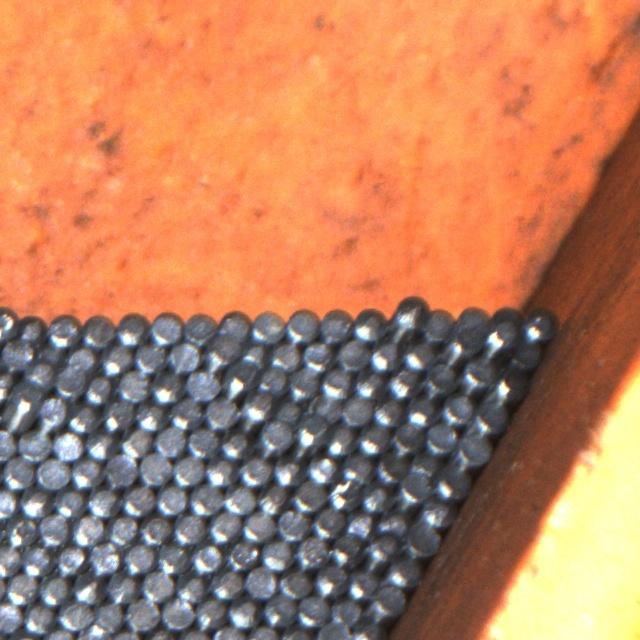tool: (258, 418, 292, 452), (291, 478, 325, 512), (46, 314, 80, 348), (52, 540, 86, 574), (102, 452, 136, 486), (82, 312, 115, 347), (35, 396, 68, 430), (116, 368, 149, 402), (285, 308, 318, 342), (173, 511, 206, 545), (98, 342, 132, 375), (37, 571, 70, 605), (238, 452, 271, 486), (169, 397, 203, 430), (140, 569, 173, 603), (261, 594, 294, 628), (137, 452, 171, 485), (70, 571, 103, 605), (171, 453, 204, 487), (190, 482, 223, 516), (4, 570, 37, 604), (125, 597, 158, 631), (319, 308, 352, 342), (132, 341, 166, 374), (106, 513, 139, 547), (174, 570, 207, 604), (87, 484, 121, 517), (51, 428, 84, 462), (1, 455, 34, 489), (368, 337, 402, 370), (227, 594, 260, 628), (168, 339, 202, 372), (238, 391, 272, 424), (243, 564, 277, 597), (104, 571, 138, 604), (87, 540, 121, 573), (190, 540, 223, 574), (115, 312, 148, 346), (454, 308, 488, 341), (57, 598, 90, 631), (295, 535, 328, 568), (19, 543, 52, 576), (225, 537, 258, 570), (135, 398, 168, 431), (241, 509, 274, 542), (260, 537, 293, 570), (18, 486, 51, 519), (139, 512, 172, 545), (185, 368, 218, 401), (222, 483, 255, 516), (90, 601, 123, 634), (440, 393, 473, 426), (122, 541, 155, 574), (150, 369, 183, 402), (120, 426, 153, 459), (72, 513, 105, 546), (311, 506, 344, 539), (37, 512, 70, 545), (219, 426, 252, 459), (271, 454, 304, 487), (335, 339, 368, 372), (301, 339, 334, 372), (155, 482, 188, 515), (204, 396, 237, 429), (277, 566, 310, 599), (1, 396, 34, 429), (461, 358, 494, 391), (397, 472, 430, 505), (68, 399, 100, 433), (122, 482, 154, 516), (275, 508, 309, 540), (18, 428, 50, 462), (150, 312, 182, 346), (388, 308, 420, 342), (61, 348, 95, 380), (408, 450, 442, 482), (488, 308, 520, 342), (160, 597, 192, 630), (22, 601, 55, 633), (186, 426, 219, 458), (208, 509, 240, 542), (36, 456, 68, 489), (372, 394, 404, 427), (70, 456, 102, 489), (194, 596, 227, 628), (296, 592, 328, 625), (364, 532, 397, 564), (208, 567, 240, 600), (324, 423, 356, 456), (374, 451, 406, 484), (156, 541, 188, 574), (184, 311, 217, 343), (204, 454, 236, 487), (153, 424, 185, 457), (353, 310, 386, 342), (314, 562, 346, 595), (84, 428, 117, 460), (4, 513, 36, 546), (220, 364, 252, 397), (305, 452, 338, 484), (52, 487, 85, 519), (420, 365, 453, 397), (458, 431, 490, 464), (328, 534, 361, 566), (387, 554, 420, 586), (474, 395, 506, 428), (22, 359, 56, 390), (376, 505, 410, 536), (83, 372, 115, 404), (424, 421, 456, 453), (252, 310, 284, 342), (326, 478, 358, 510), (390, 421, 422, 453), (386, 366, 418, 398), (352, 367, 384, 399), (341, 452, 373, 484), (294, 419, 326, 451), (102, 398, 134, 430), (272, 393, 304, 425), (403, 338, 435, 370), (269, 338, 301, 370), (357, 422, 389, 454), (257, 481, 289, 513), (201, 340, 233, 372), (329, 596, 361, 628), (404, 524, 436, 556), (404, 396, 437, 427), (421, 309, 452, 342), (341, 395, 372, 427), (320, 366, 351, 398), (360, 481, 392, 512), (1, 337, 32, 369), (478, 330, 509, 362), (53, 366, 84, 398), (370, 584, 402, 615), (218, 312, 250, 343), (286, 367, 317, 398), (238, 338, 269, 369), (420, 496, 451, 527), (16, 313, 47, 344), (522, 310, 553, 341), (436, 334, 466, 366), (310, 393, 342, 423), (256, 363, 286, 395), (345, 510, 376, 540), (347, 568, 377, 598), (509, 339, 539, 369), (486, 375, 517, 404), (439, 452, 469, 481), (432, 469, 461, 498), (0, 600, 21, 632), (316, 620, 349, 640), (348, 620, 381, 640), (0, 543, 19, 576), (0, 486, 18, 520), (247, 622, 280, 640), (280, 622, 313, 640), (213, 623, 246, 640), (0, 428, 15, 462), (74, 625, 108, 640), (0, 308, 15, 342), (178, 625, 210, 640), (0, 372, 13, 403)
